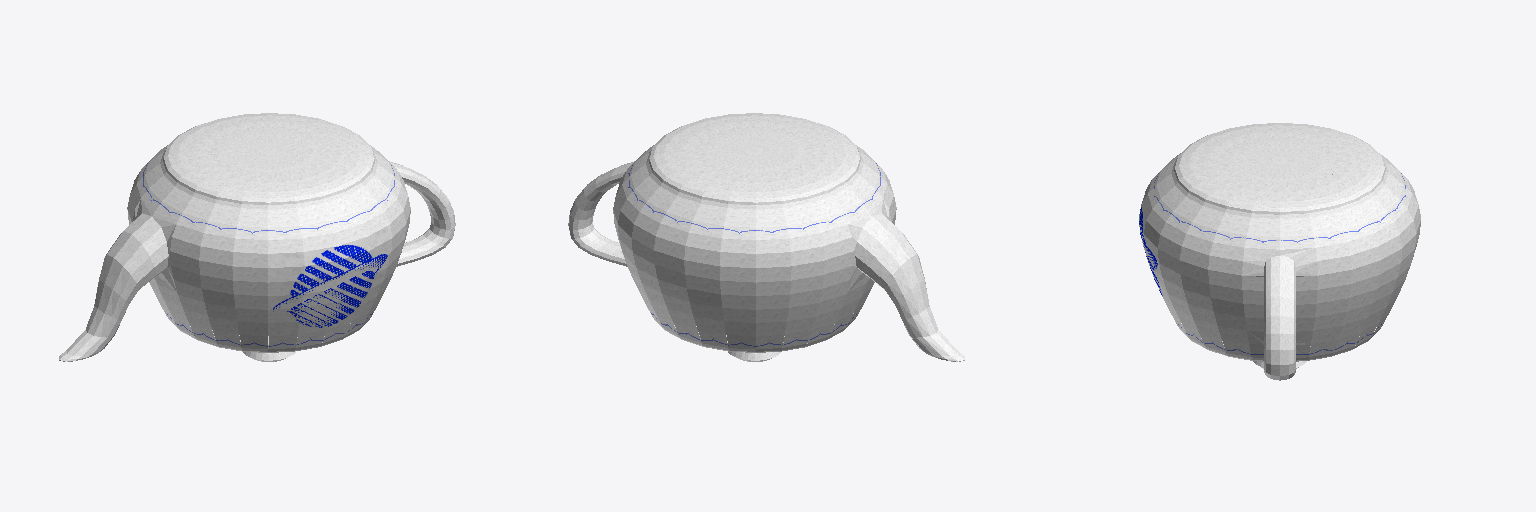
The picture shows the model from 3 angles: view 1: azimuth 30°, elevation 25°; view 2: azimuth 150°, elevation 25°; view 3: azimuth 270°, elevation 25°; orthographic projection.
Parts seen in each view (by area): view 1: Teapot; view 2: Teapot; view 3: Teapot.
Boxes of the visible parts, x1,y1,x2,y2 form: Teapot: [59, 113, 455, 361]; Teapot: [568, 113, 964, 361]; Teapot: [1139, 123, 1420, 380].
Size of the model in its own units: 34.14 by 16.91 by 21.24.
2 materials, 1 textured.